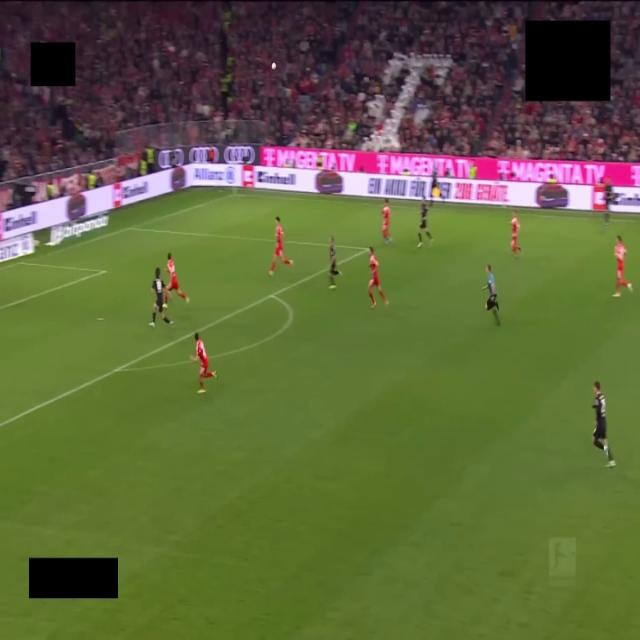ball: (272, 63, 276, 70)
player: (592, 382, 615, 467), (190, 333, 216, 393), (149, 268, 172, 327), (164, 253, 188, 308), (270, 216, 292, 275), (368, 248, 388, 308), (613, 236, 632, 297), (418, 197, 432, 247), (330, 236, 340, 288), (511, 210, 520, 257), (604, 177, 612, 227), (382, 200, 391, 243)
referee: (483, 264, 500, 325)
